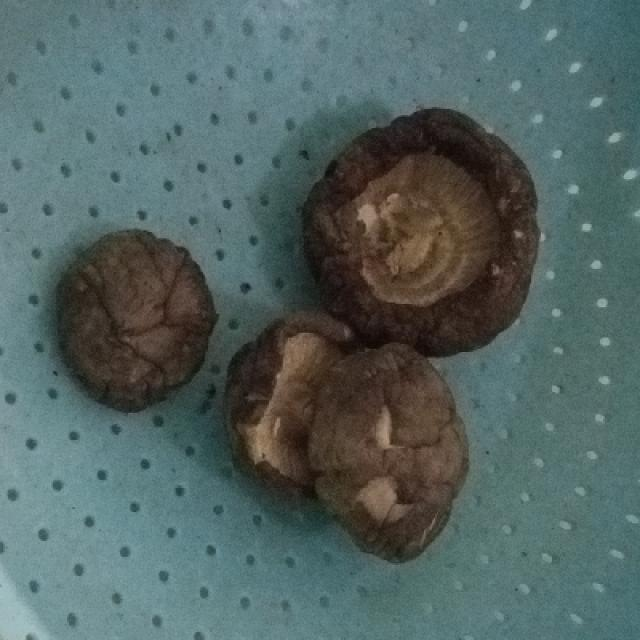Lentinus edodes: (298, 111, 542, 346), (310, 345, 469, 559), (54, 230, 223, 412), (227, 320, 350, 503)
